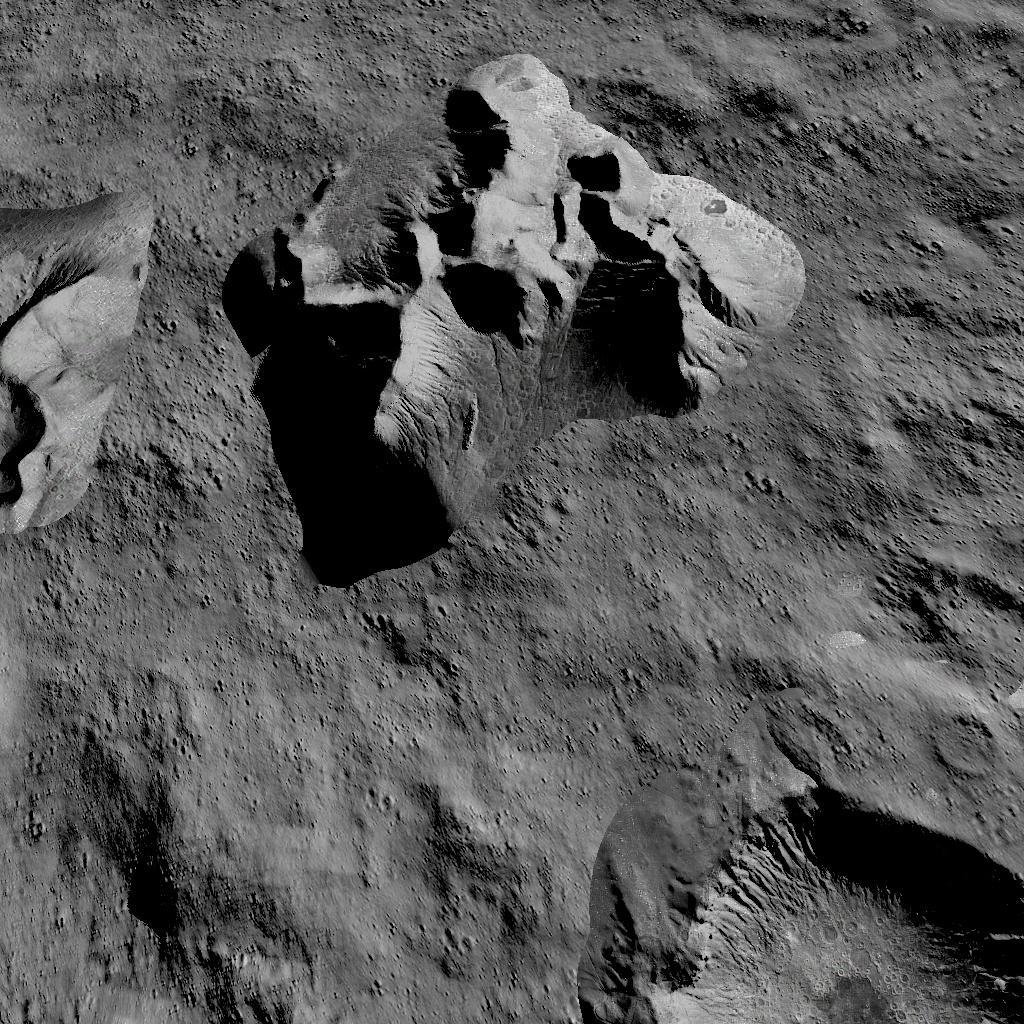Boulders: (204, 32, 810, 584), (0, 164, 153, 534)
Crater: (573, 746, 1024, 1024), (873, 540, 1024, 686), (102, 836, 208, 944)
Plan surface: (260, 598, 552, 1024), (829, 0, 1024, 527), (13, 605, 235, 815), (574, 602, 858, 726), (8, 6, 194, 149)
